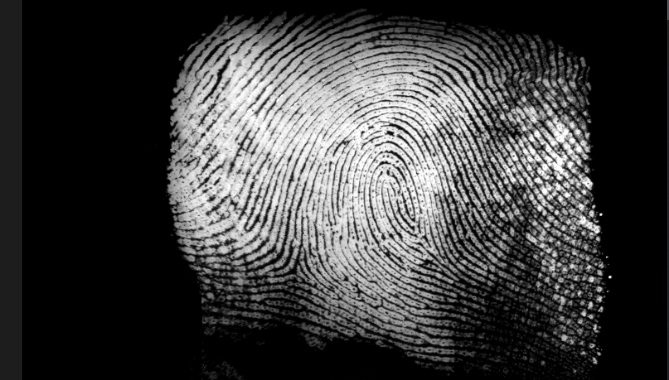deltas: (274, 240, 320, 287)
nucleo: (367, 164, 426, 215)
